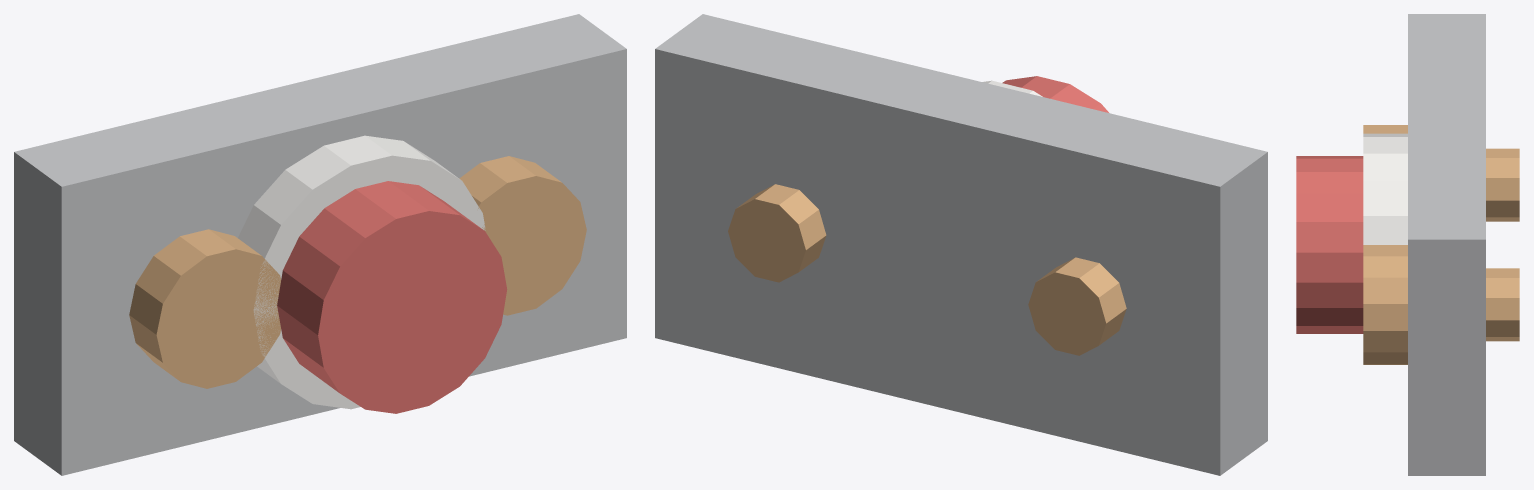
The model's file is snap_button.glb.
3 views of the same model, side by side, from view 1: azimuth 30°, elevation 25°; view 2: azimuth 150°, elevation 25°; view 3: azimuth 270°, elevation 25° (orthographic). The views are drawn at different scales.
Visible parts, largest first — view 1: plastic_gray, plastic_red, copper, white_plastic; view 2: plastic_gray, copper, plastic_red; view 3: plastic_gray, plastic_red, copper, white_plastic.
Part boxes in pixels (left/top/right/bottom): plastic_gray: left=14, top=14, right=626, bottom=475; plastic_red: left=277, top=181, right=507, bottom=413; copper: left=129, top=156, right=586, bottom=388; white_plastic: left=238, top=135, right=485, bottom=409; plastic_gray: left=655, top=14, right=1267, bottom=475; copper: left=728, top=184, right=1126, bottom=355; plastic_red: left=1002, top=76, right=1108, bottom=112; plastic_gray: left=1408, top=14, right=1485, bottom=475; plastic_red: left=1296, top=156, right=1363, bottom=333; copper: left=1363, top=125, right=1519, bottom=364; white_plastic: left=1363, top=133, right=1407, bottom=244.
Bounding box in the file's own units: 0.0478 × 0.0234 × 0.02.
